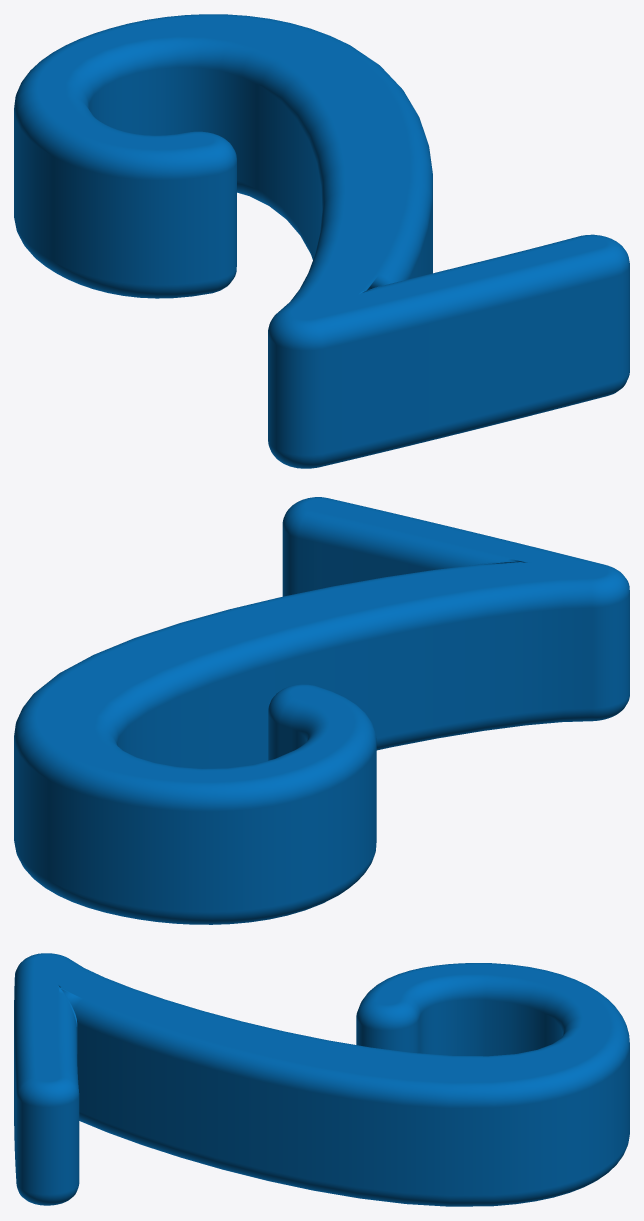
The picture shows the model from 3 angles, top to bottom: view 1: azimuth 30°, elevation 25°; view 2: azimuth 150°, elevation 25°; view 3: azimuth 270°, elevation 25°; orthographic projection. The views are drawn at different scales.
Visible parts, largest first — view 1: 1; view 2: 1; view 3: 1.
Boxes of the visible parts, bbox=[...] form: 1: bbox=[14, 14, 629, 468]; 1: bbox=[14, 497, 629, 924]; 1: bbox=[14, 953, 629, 1206].
Size of the model in its own units: 84.53 by 33.4 by 153.
